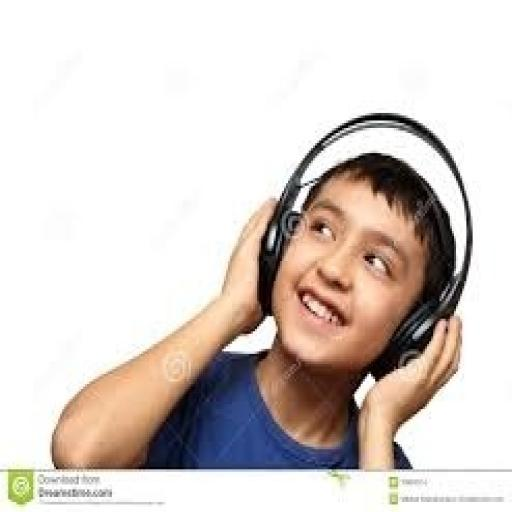listening_to_music: (48, 110, 472, 470), (255, 108, 475, 374)
